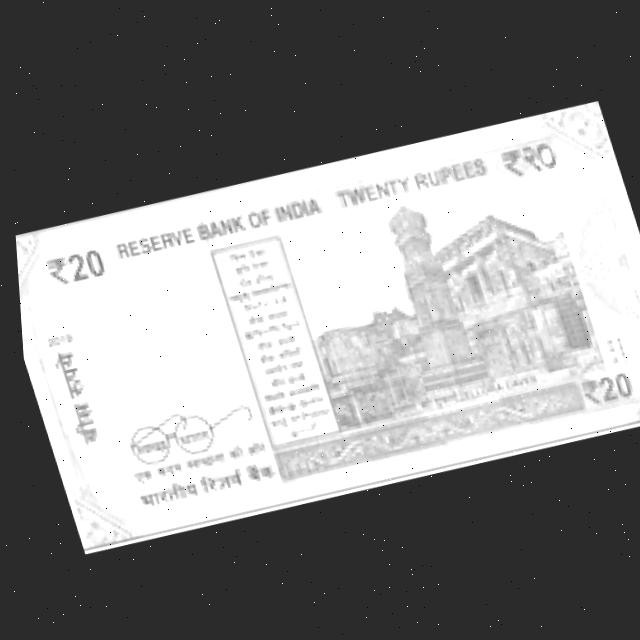banknote: (4, 85, 640, 561)
